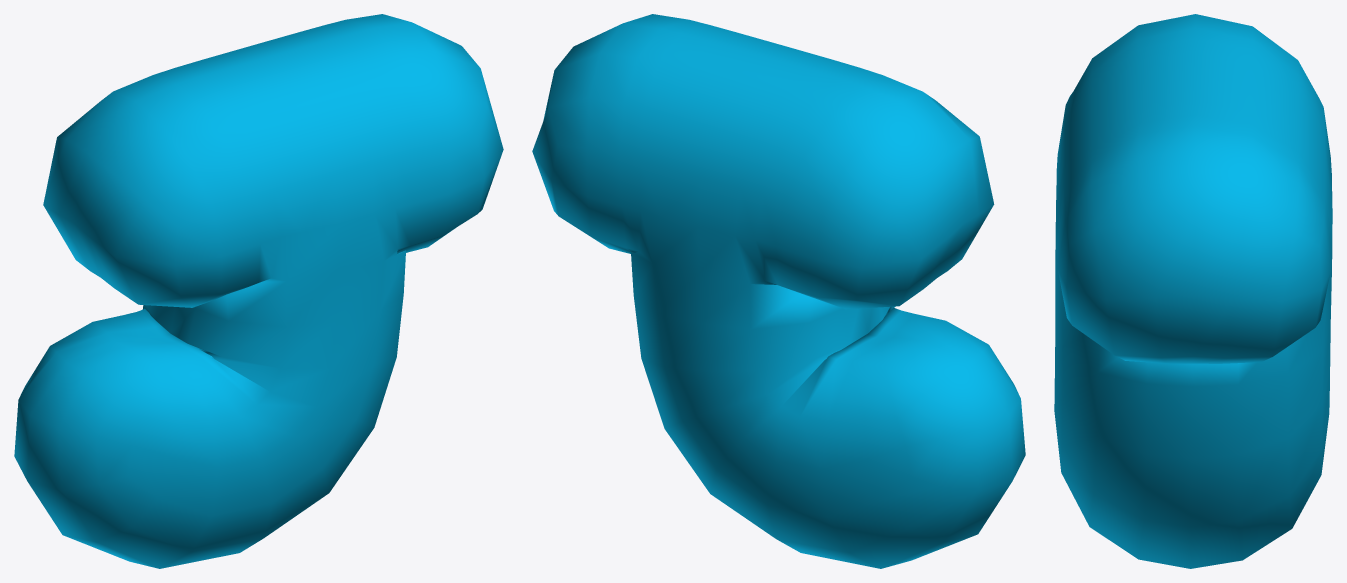
The picture shows the model from 3 angles, left to right: view 1: azimuth 30°, elevation 25°; view 2: azimuth 150°, elevation 25°; view 3: azimuth 270°, elevation 25°; orthographic projection. The views are drawn at different scales.
Parts seen in each view (by area): view 1: Object_22; view 2: Object_22; view 3: Object_22.
Part boxes in pixels (bbox=[...]): Object_22: bbox=[14, 14, 503, 568]; Object_22: bbox=[532, 14, 1025, 568]; Object_22: bbox=[1054, 14, 1332, 568].
Size of the model in its own units: 94.38 by 94.94 by 45.48.
